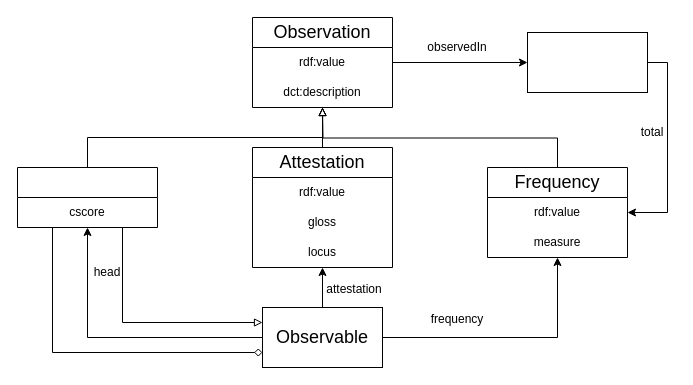
The diagram is 693 pixels wide and 385 high, and some of its shapes have lost their labels. Each missing label, with the box of its shape:
anyURI: (526, 32, 648, 92)
Collocation: (16, 166, 158, 228)
